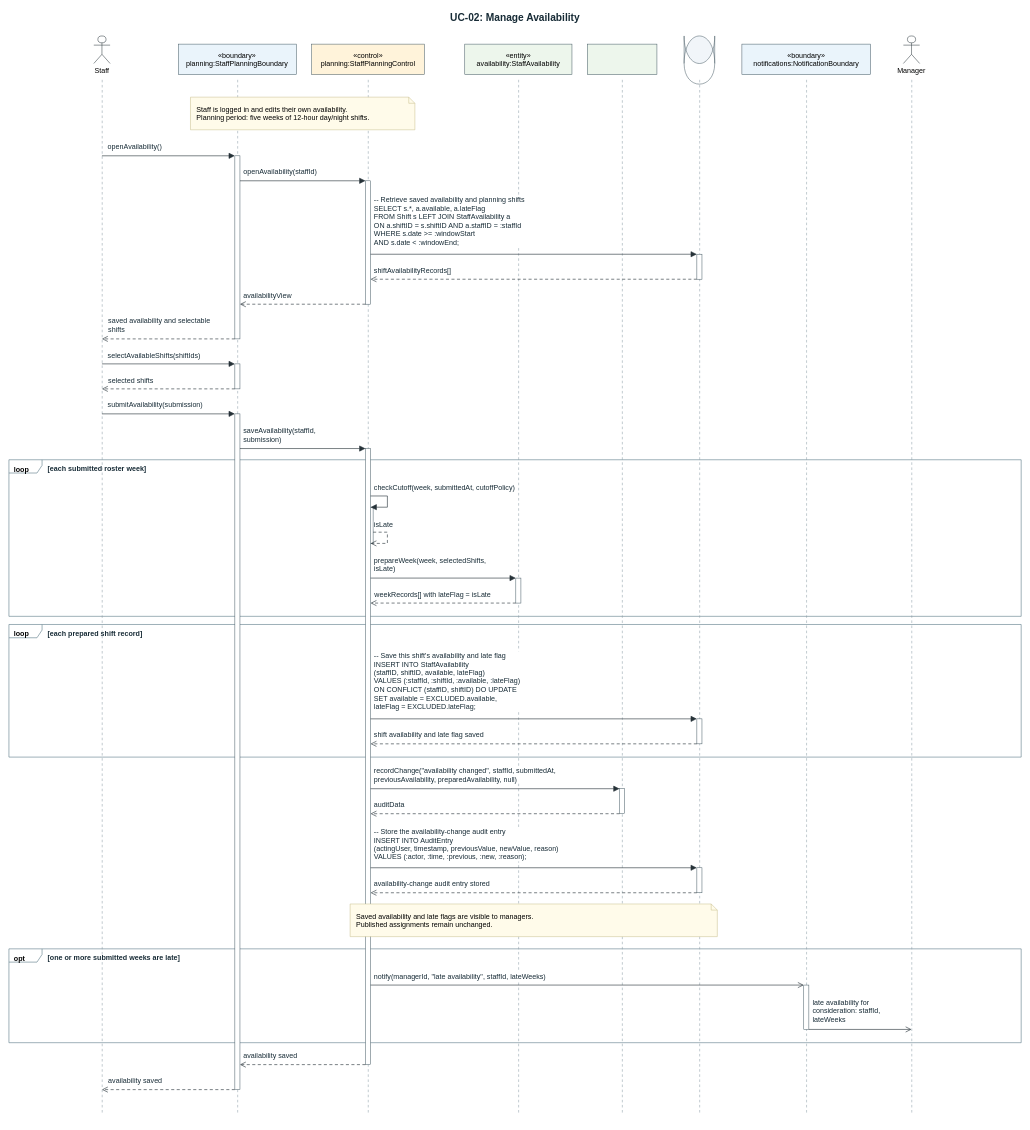
This 1030x1130 diagram has some shape labels left out. Each missing label, with the centre of its shape:
"db:Database" goes at point (699, 49).
"«entity» audit:AuditEntry" goes at point (622, 59).
